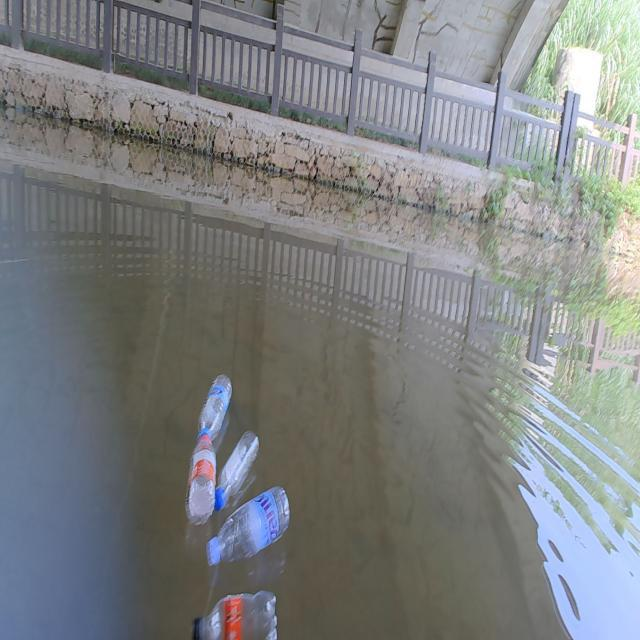bottle: (194, 482, 297, 564), (183, 586, 290, 638), (208, 428, 263, 506), (182, 427, 222, 530), (186, 371, 239, 440)
